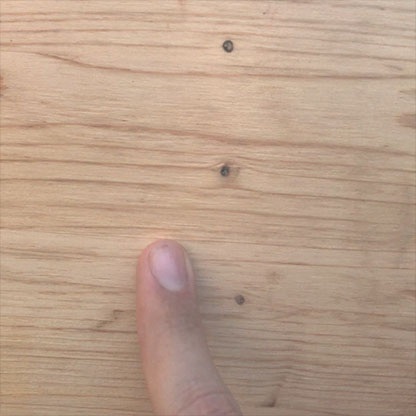fingertip: (127, 233, 213, 309)
